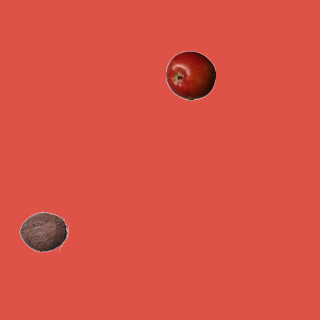Apple Braeburn: (165, 50, 215, 100)
Cocos: (18, 206, 68, 256)
